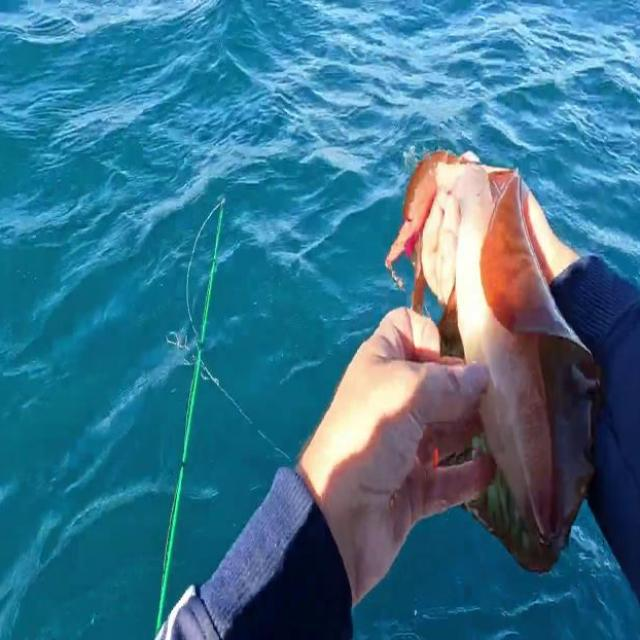SQUID: (360, 109, 620, 585)
